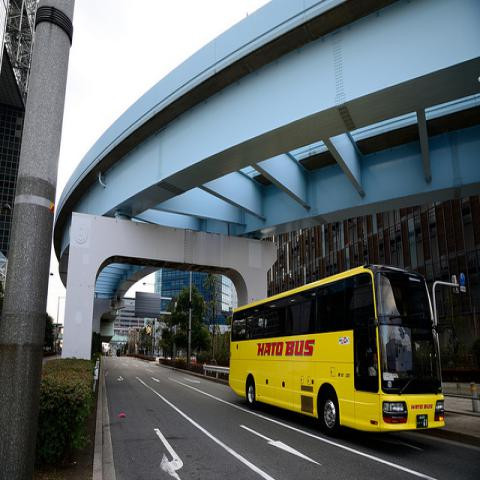bus: (227, 264, 446, 434)
